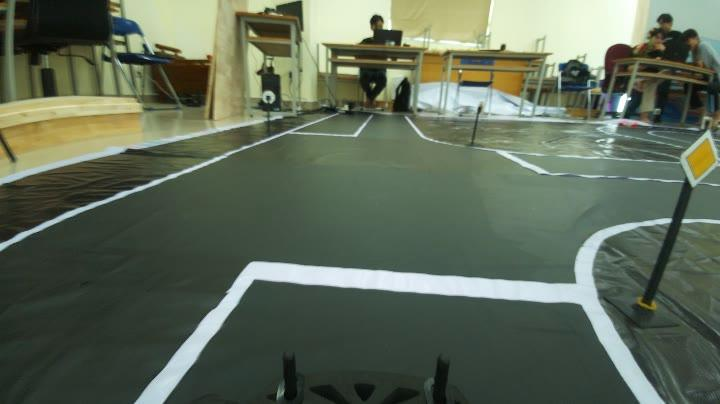priority: (676, 126, 718, 184)
